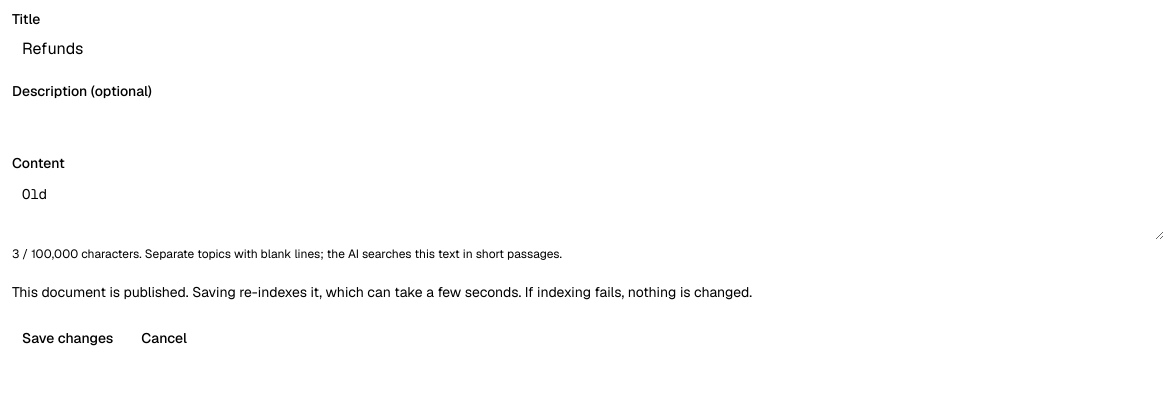
Test case: KnowledgeDocumentForm › warns that saving a published document re-indexes it, and shows API failures without losing input
Expected: the text "Saving re-indexes it" is shown, [12,283,752,301]
Step 1. Type " plus more" into the text box labelled "Content" → coordinates (588, 208), box [12,176,1164,240]
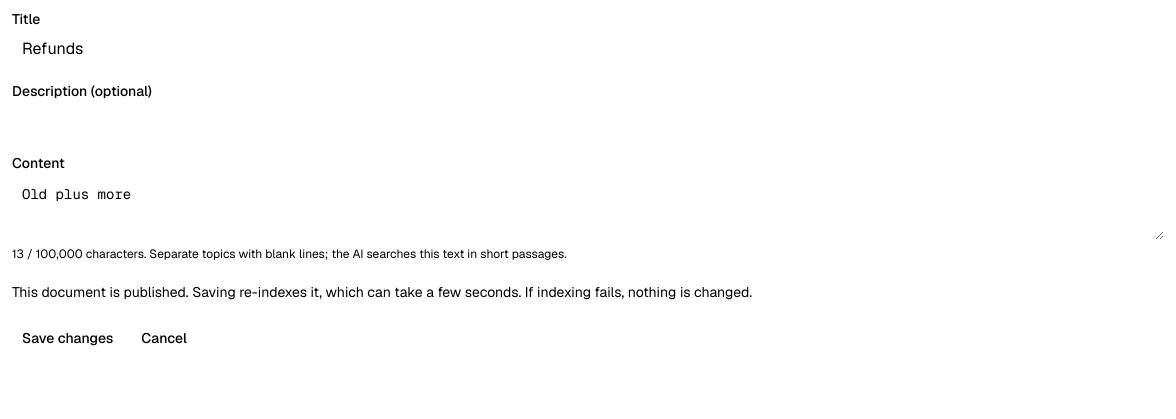
Step 2. Click the button "Save changes" → coordinates (68, 338), box [12,322,123,354]
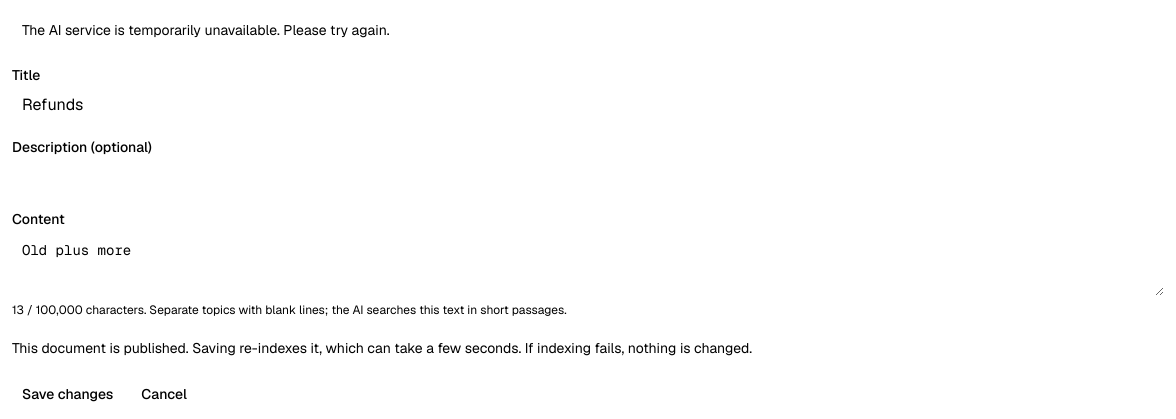
Now the text box labelled "Content" holds "Old plus more", box [12,232,1164,296]
Now the message shows "temporarily unavailable", box [22,21,390,39]
